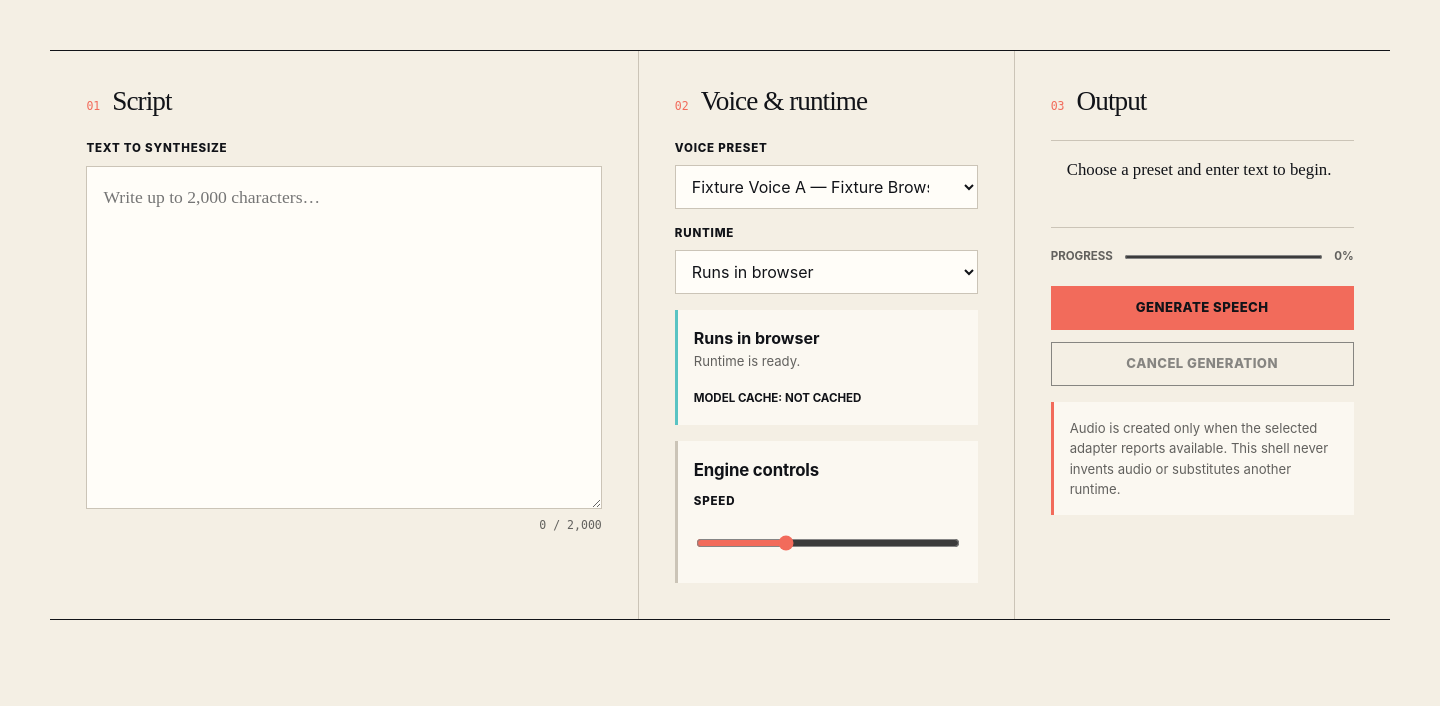
Test case: play workbench with an available adapter › shows readiness, engine controls, progress, WAV output, and completed local history
(page scrolled)
Expected: the text "Runtime is ready." is shown, [694,353,800,369]
Expected: the slider labelled "Speed" holds "1", [696,521,960,565]
Type "A clear line." into the text box labelled "Text to synthesize".
click(344, 338); type("A clear line.")  # box [86,166,602,509]
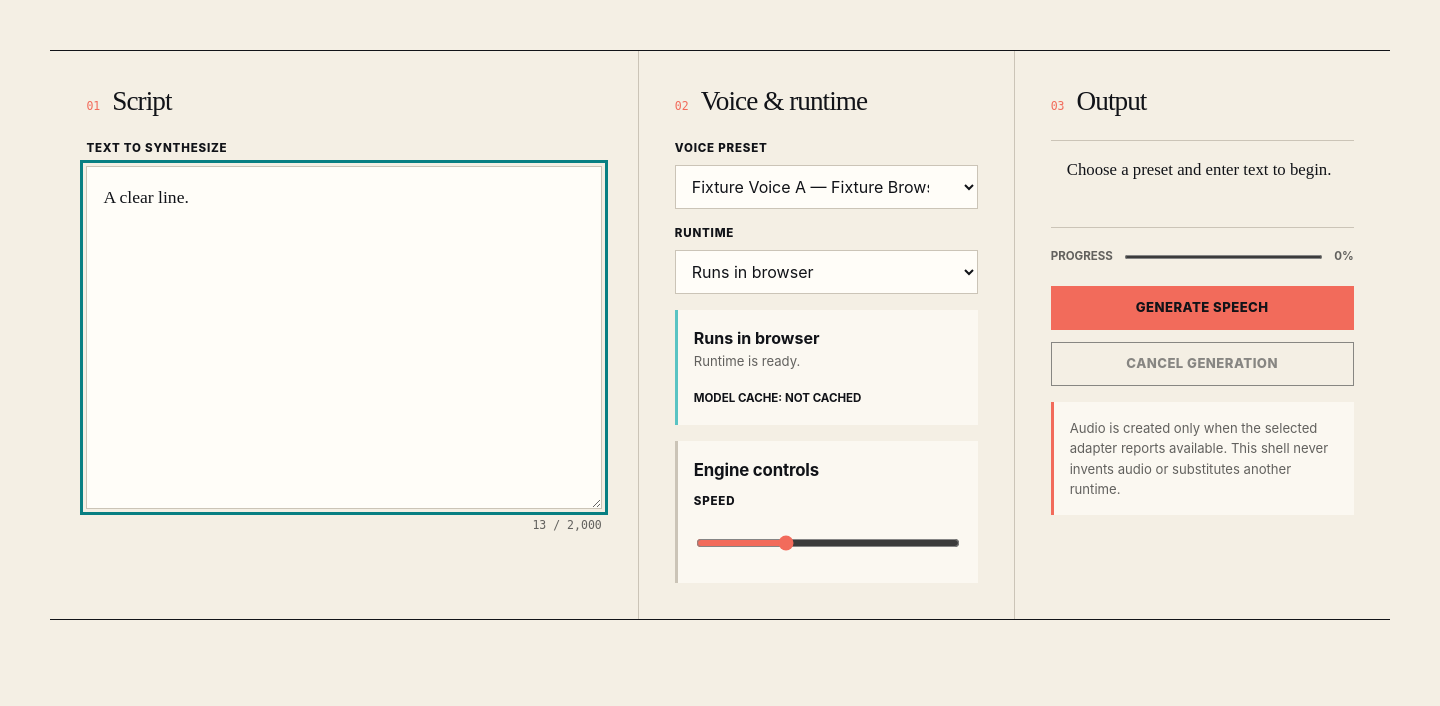
Click the button "Generate speech".
click(1202, 308)  # box [1051,286,1354,330]
(page scrolled)
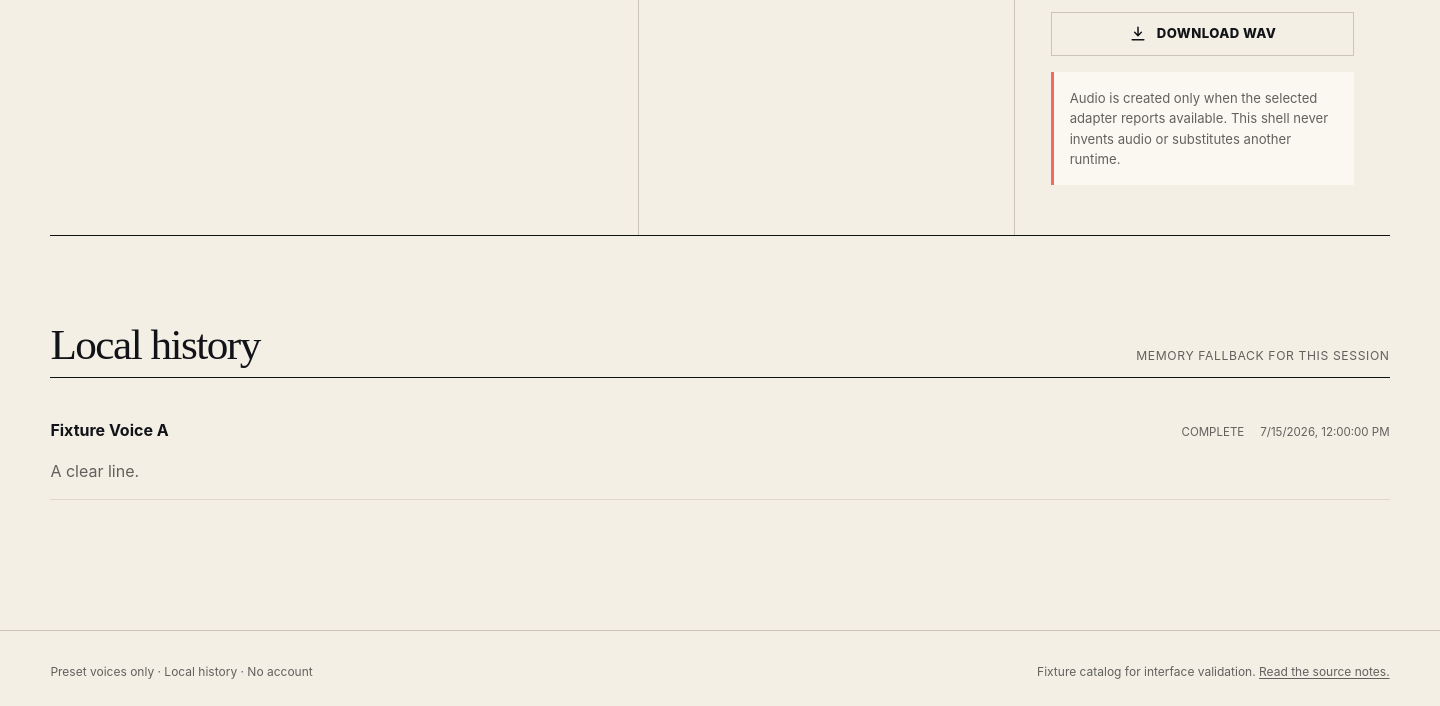
Expected: the text "complete" is shown, [1182,424,1244,442]
